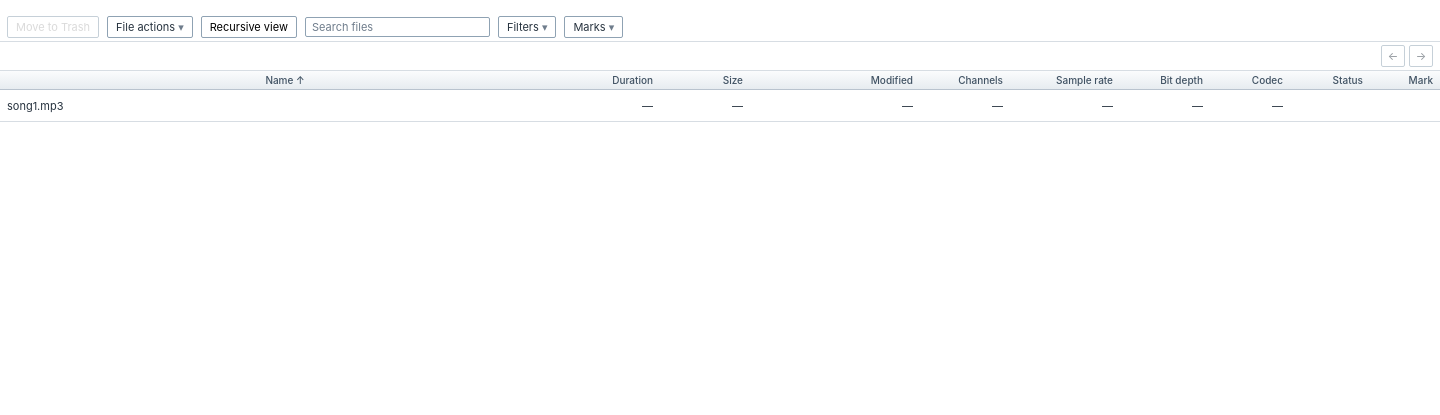
FileList — context menu › replaces the native menu with file and mark actions
Right-click the row "song1.mp3 — — — — — — —".
right_click(720, 106)  # box [0,90,1439,122]
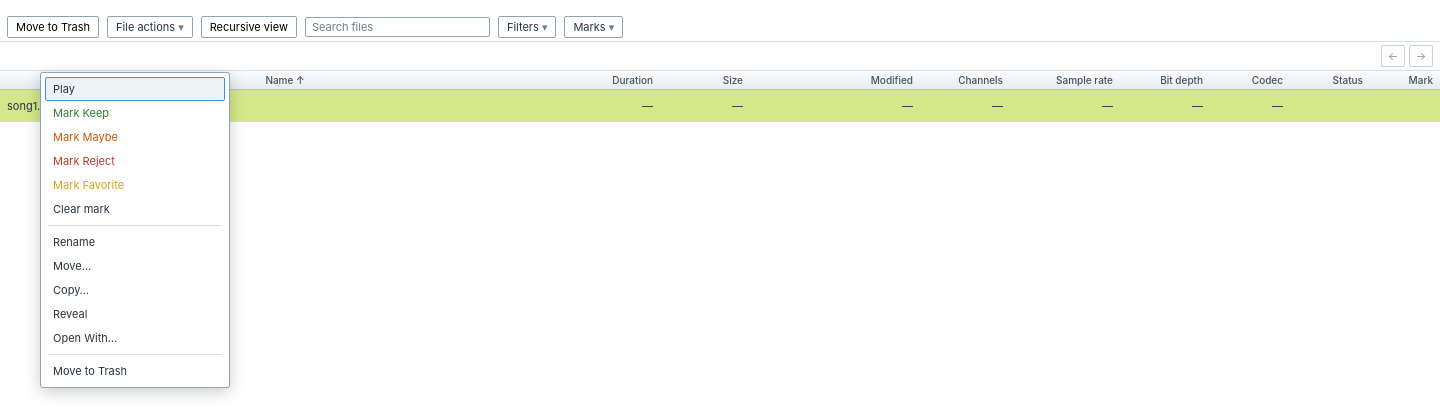
Now the menu item "Play" is shown, box [45,77,225,101]
Now the menu item "Mark Favorite" is shown
Now the menu item "Move…" is shown, box [45,254,225,278]
Click the menu item "Mark Favorite".
click(135, 185)  # box [45,173,225,197]
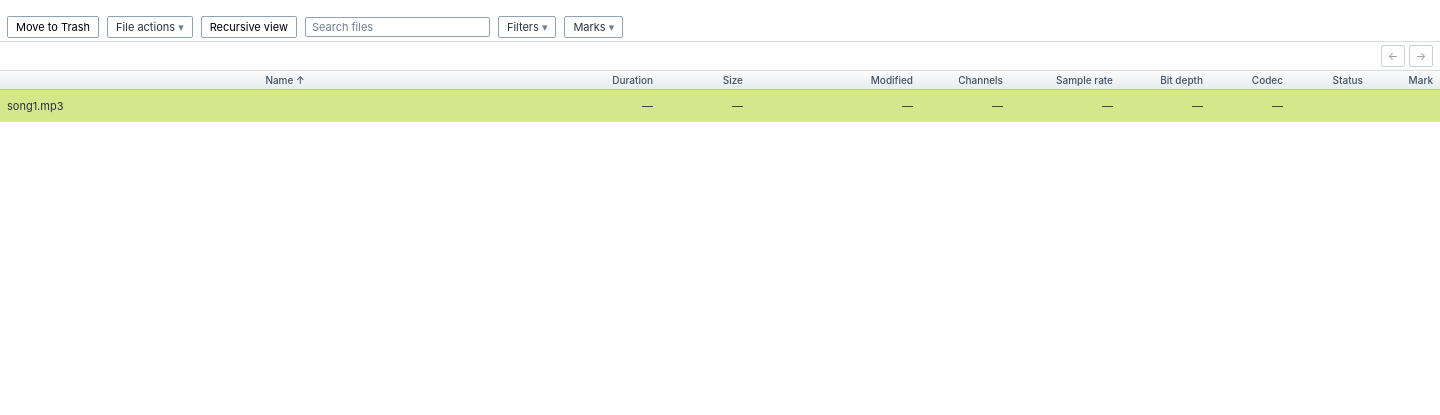
Now the menu is gone
